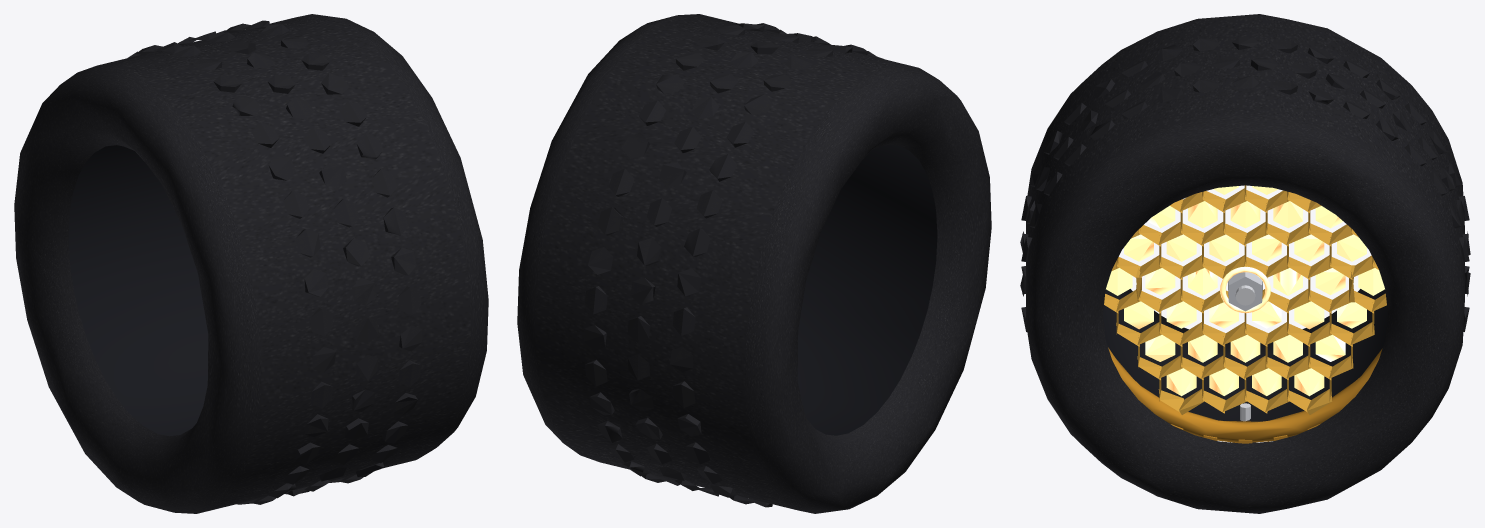
The model's file is tyre-hexcore-lp.glb.
3 views of the same model, side by side, from view 1: azimuth 30°, elevation 25°; view 2: azimuth 150°, elevation 25°; view 3: azimuth 270°, elevation 25° (orthographic). The views are drawn at different scales.
Visible parts, largest first — view 1: Tyre_Rubber, Rim; view 2: Tyre_Rubber, Rim; view 3: Tyre_Rubber, Rim_Spokes, Rim, Rim_Lip, LED_Seg_6, LED_Seg_1, LED_Seg_2, LED_Seg_5, LED_Seg_4, LED_Seg_3, Hub, LED_Ring (+1 smaller).
Part boxes in pixels (x1,y1,x2,y2): Tyre_Rubber: (14, 14, 488, 513); Rim: (68, 145, 208, 436); Tyre_Rubber: (517, 14, 991, 513); Rim: (797, 144, 937, 435); Tyre_Rubber: (1020, 14, 1470, 513); Rim_Spokes: (1104, 185, 1386, 414); Rim: (1103, 289, 1387, 421); Rim_Lip: (1108, 347, 1382, 443); LED_Seg_6: (1252, 301, 1345, 396); LED_Seg_1: (1145, 302, 1260, 396); LED_Seg_2: (1106, 234, 1217, 329); LED_Seg_5: (1273, 234, 1384, 328); LED_Seg_4: (1230, 186, 1343, 261); LED_Seg_3: (1147, 186, 1238, 261); Hub: (1228, 272, 1262, 311); LED_Ring: (1220, 266, 1270, 313).
Size of the model in its own units: 0.18 by 0.2788 by 0.2784.
Materials: 13 (1 with a texture image).
